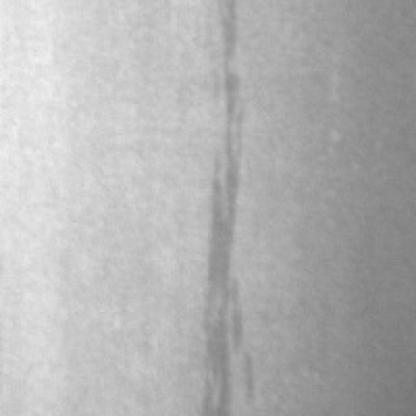inclusion: (185, 0, 258, 410)
